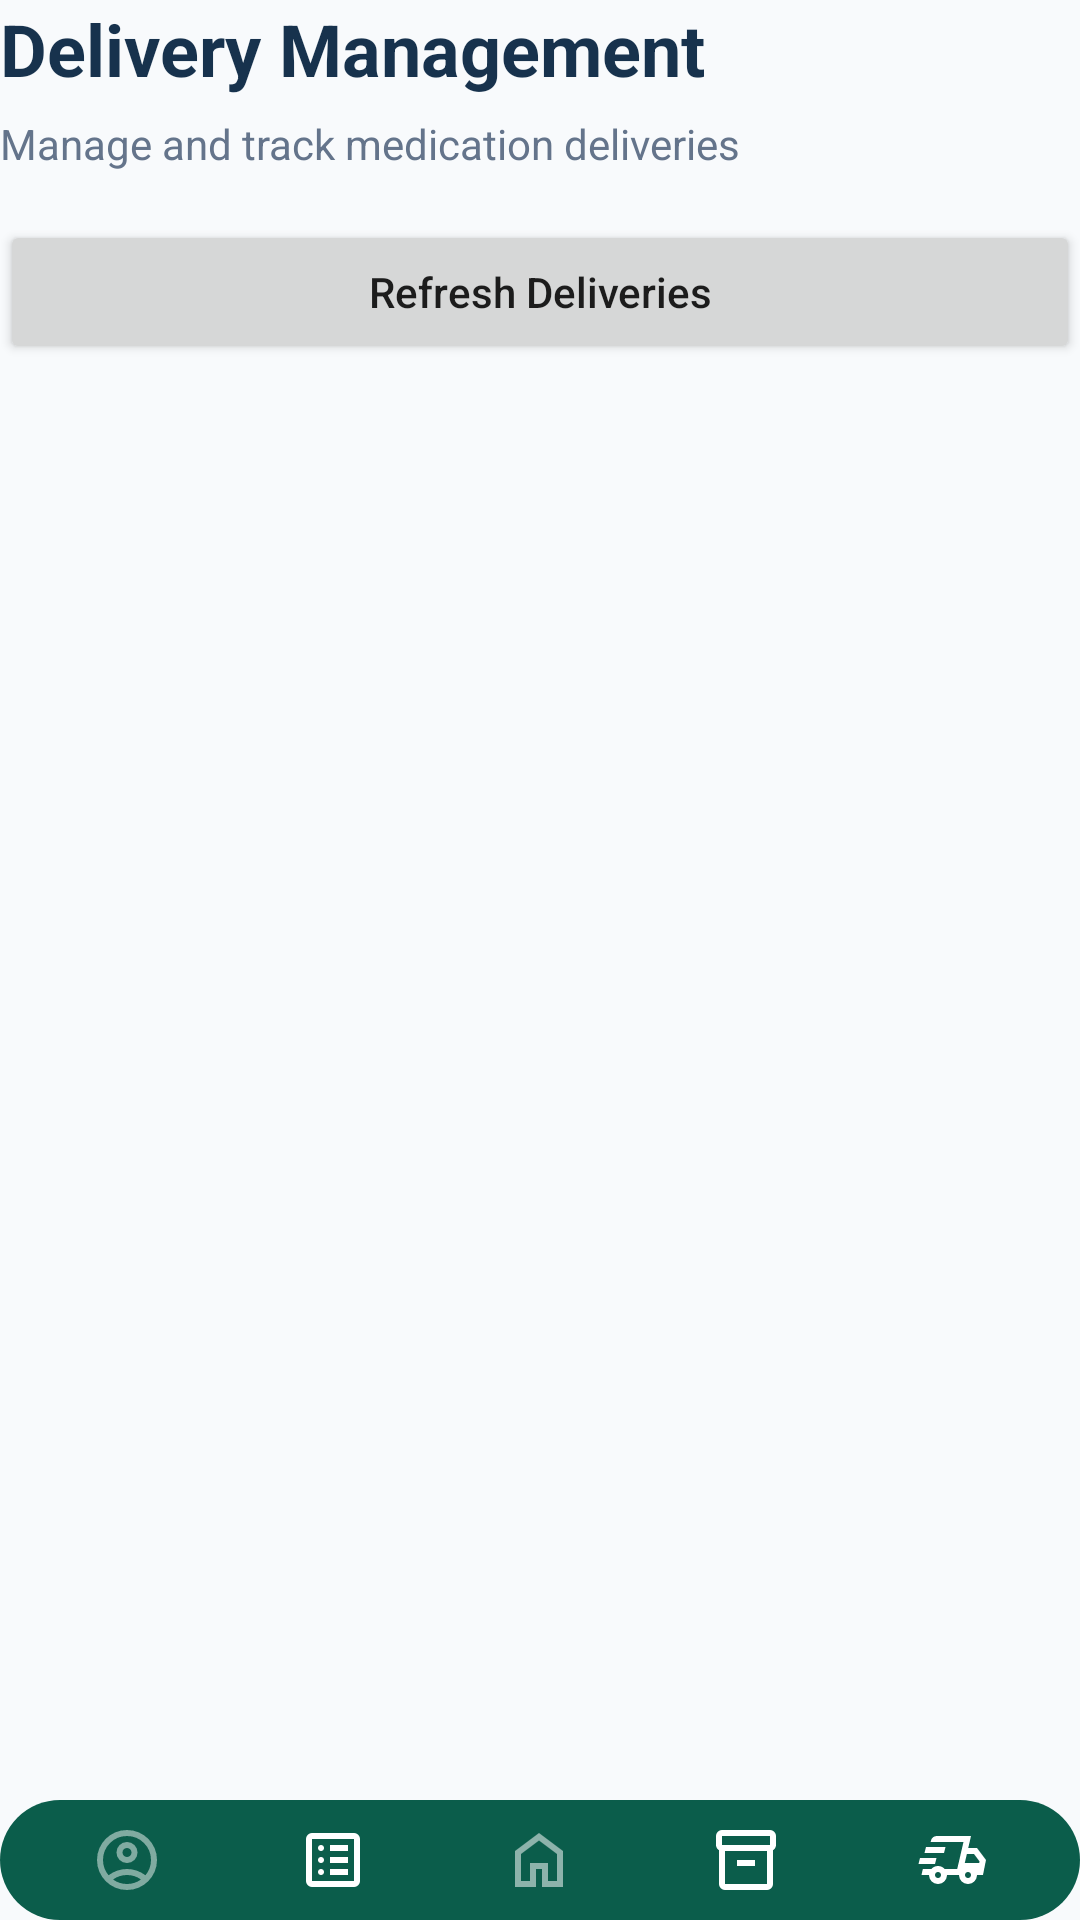

Screen size 1080px×1920px. Icon name, then its center in pixels as point (x, y):
Deliveries: point (952, 1860)
Home: point (539, 1860)
Inventory: point (746, 1860)
Orders: point (333, 1860)
Profile: point (127, 1860)
